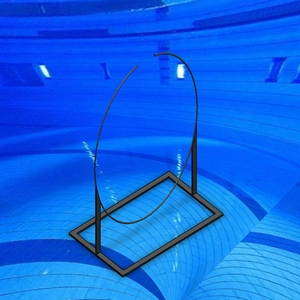circle: (68, 52, 224, 278)
